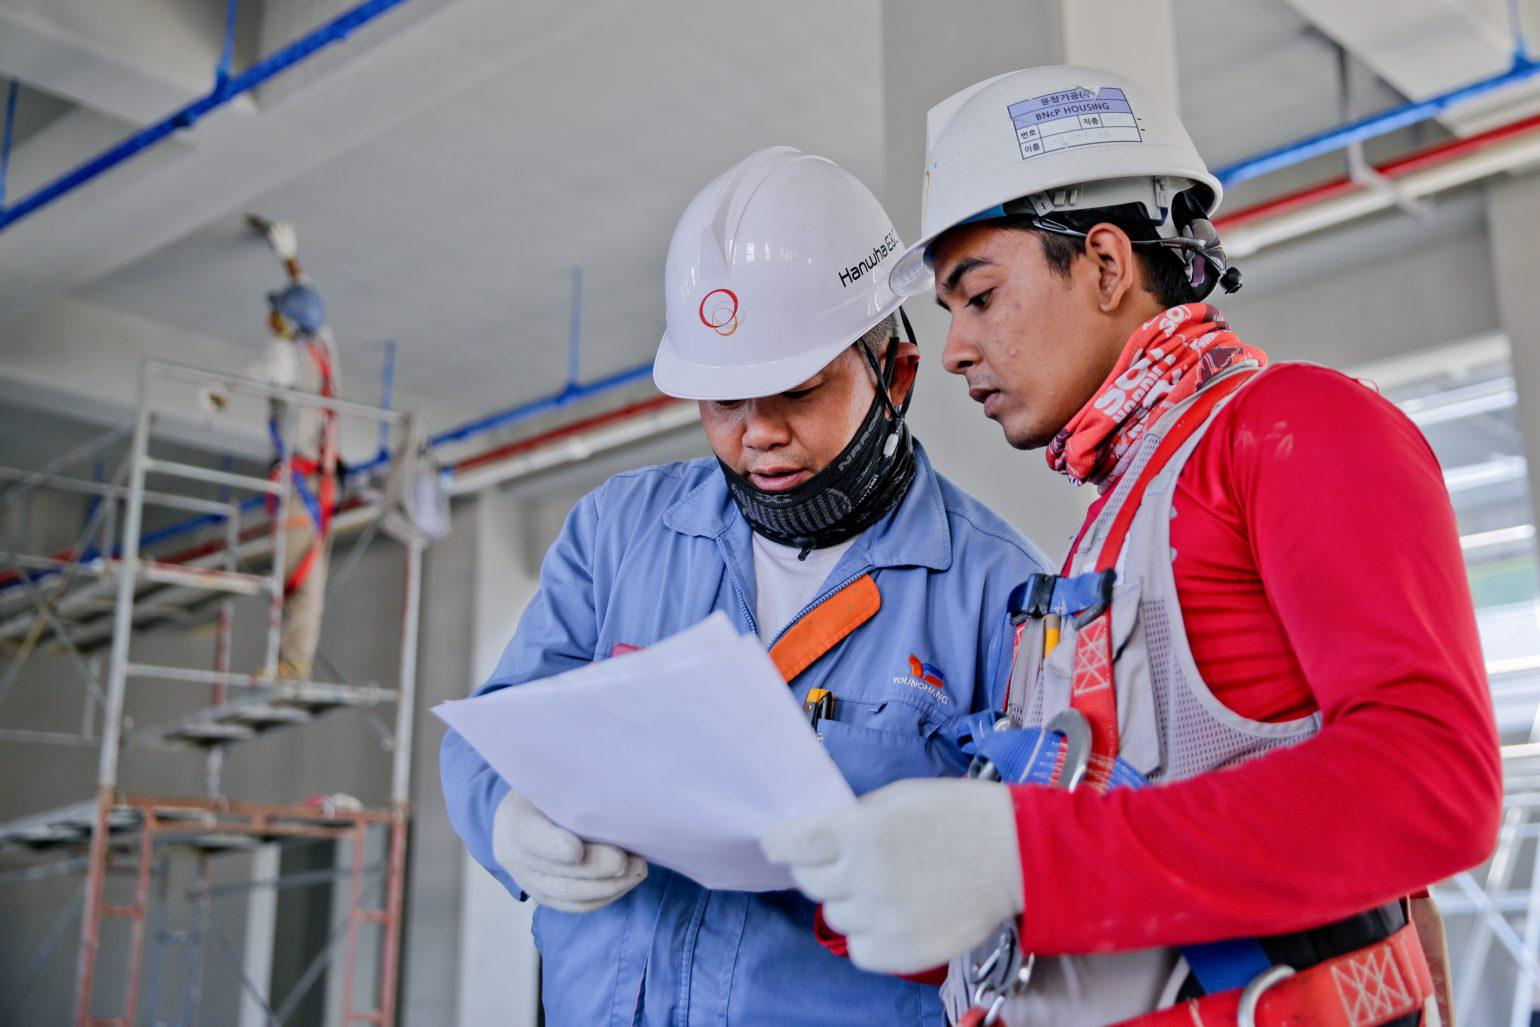hardhat: (654, 145, 918, 400), (920, 63, 1225, 248)
worker: (767, 62, 1503, 1027), (435, 148, 1053, 1026)
